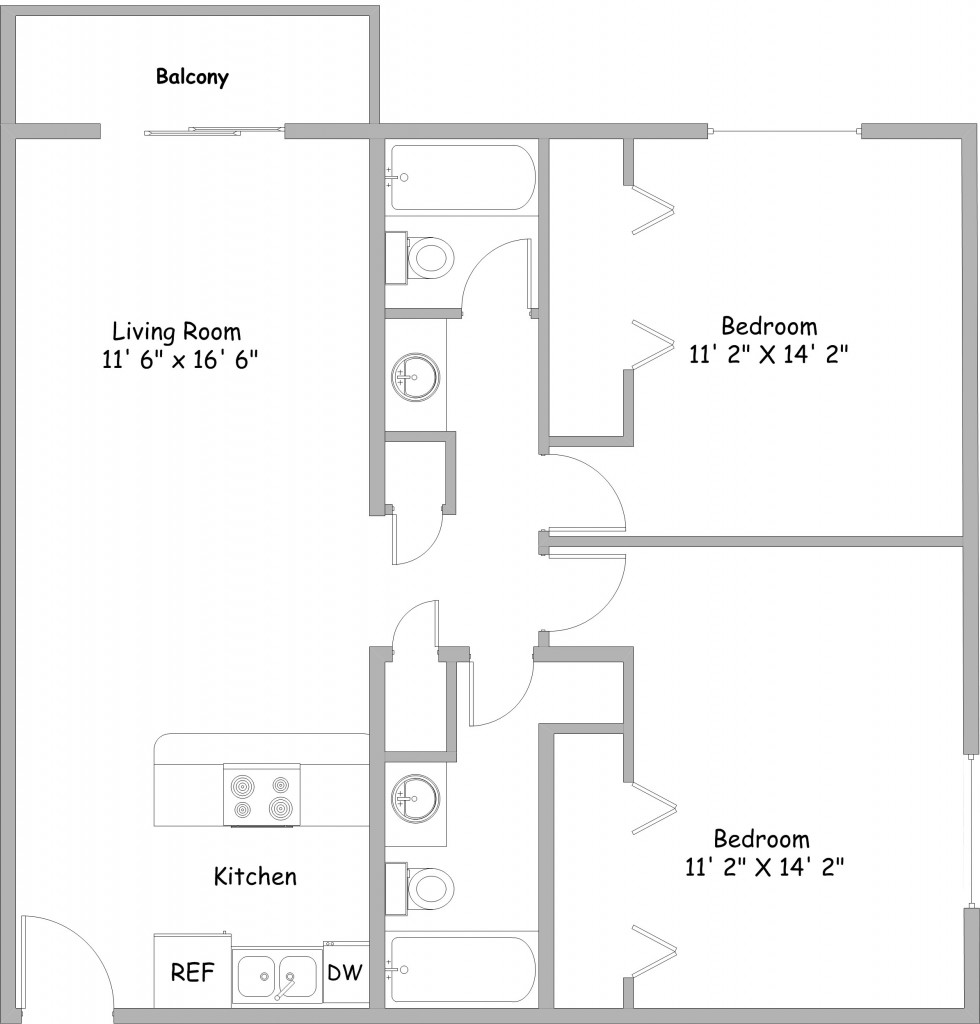door: (20, 909, 124, 992), (561, 545, 641, 626), (572, 448, 649, 532), (463, 677, 532, 737), (138, 119, 280, 148), (383, 594, 455, 643), (381, 526, 455, 569)
room: (1, 122, 384, 519), (672, 540, 980, 1008), (677, 122, 970, 546), (373, 756, 553, 1024), (155, 737, 370, 943)
window: (960, 759, 980, 895)
